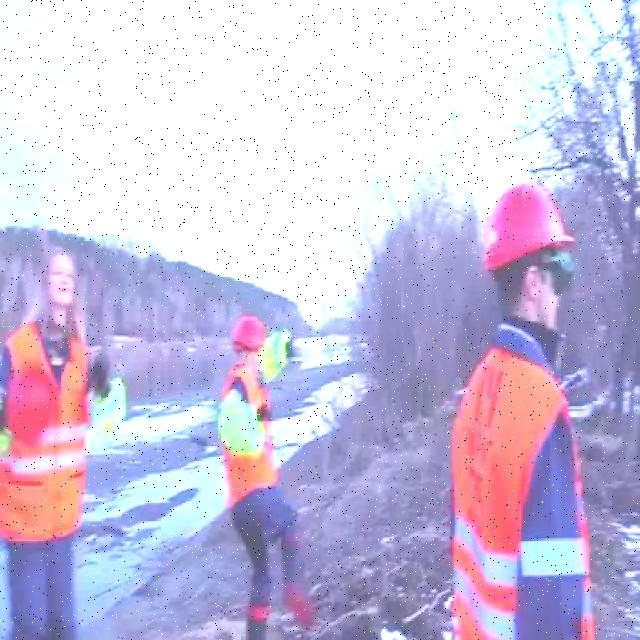Gloves: (83, 352, 120, 398), (282, 334, 300, 364), (256, 400, 276, 422)
Helmet: (482, 183, 582, 265), (8, 370, 61, 438), (232, 319, 272, 347)
Mask: (452, 344, 598, 638), (216, 326, 304, 639), (0, 326, 89, 540), (218, 363, 282, 500), (84, 374, 124, 438)
